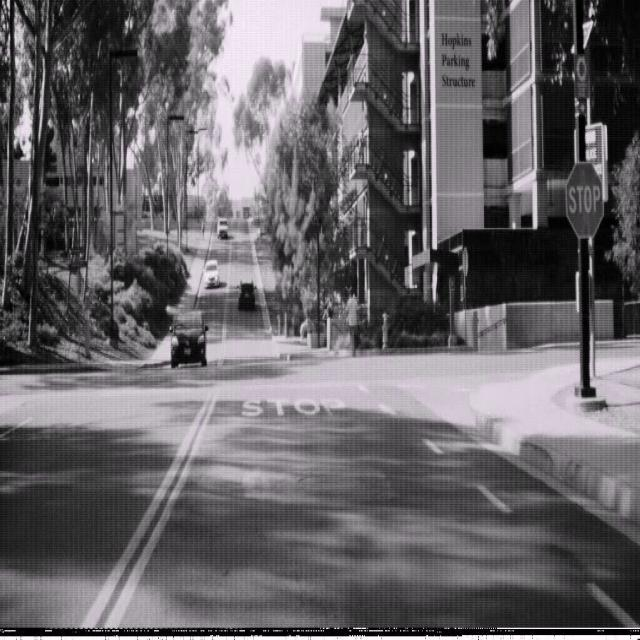stop: (565, 159, 604, 239)
